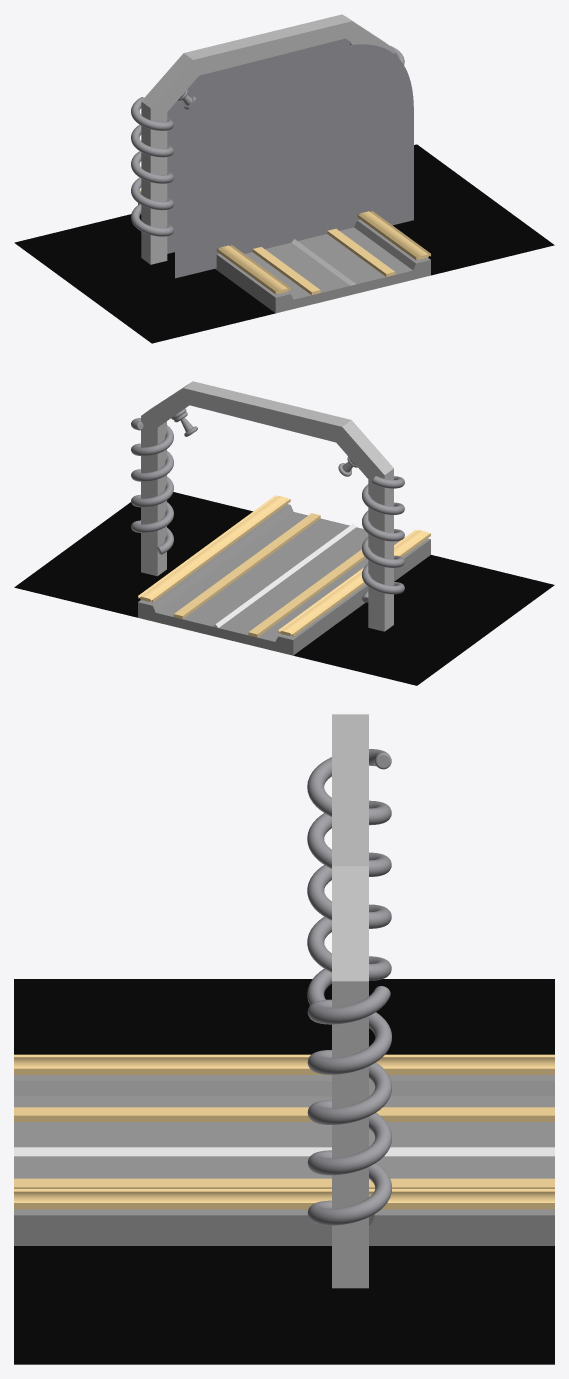
The model's file is station__soap2--.glb.
3 renders of one model, top to bottom at view 1: azimuth 30°, elevation 25°; view 2: azimuth 150°, elevation 25°; view 3: azimuth 270°, elevation 25°, orthographic. The views are drawn at different scales.
Parts seen in each view (by area): view 1: lottie_front, _basefloor, Boolean, road, lottie_back, Helix, road__top--left, road__top--right, road__rail--right, road__rail--left, road__rail--middle; view 2: _basefloor, road, Boolean, road__top--right, Helix, Helix 2, road__top--left, road__rail--right, road__rail--left, road__rail--middle; view 3: _basefloor, road, Boolean, road__top--right, road__top--left, Helix 2, road__rail--left, Helix, road__rail--right, road__rail--middle.
Boxes of the visible parts, x1=… form: lottie_front: x1=175, y1=44, x2=413, y2=278; _basefloor: x1=14, y1=144, x2=554, y2=343; Boolean: x1=141, y1=14, x2=394, y2=264; road: x1=138, y1=203, x2=430, y2=313; lottie_back: x1=167, y1=38, x2=350, y2=253; Helix: x1=131, y1=97, x2=173, y2=236; road__top--left: x1=139, y1=190, x2=290, y2=294; road__top--right: x1=357, y1=210, x2=430, y2=259; road__rail--right: x1=327, y1=228, x2=395, y2=276; road__rail--left: x1=252, y1=247, x2=320, y2=295; road__rail--middle: x1=291, y1=239, x2=355, y2=285; _basefloor: x1=14, y1=492, x2=554, y2=685; road: x1=138, y1=504, x2=430, y2=655; Boolean: x1=141, y1=381, x2=393, y2=631; road__top--right: x1=138, y1=495, x2=290, y2=602; Helix: x1=362, y1=476, x2=404, y2=602; Helix 2: x1=131, y1=418, x2=173, y2=554; road__top--left: x1=278, y1=529, x2=430, y2=636; road__rail--right: x1=173, y1=513, x2=320, y2=619; road__rail--left: x1=248, y1=549, x2=365, y2=637; road__rail--middle: x1=213, y1=523, x2=355, y2=627; _basefloor: x1=14, y1=979, x2=554, y2=1364; road: x1=14, y1=1075, x2=554, y2=1245; Boolean: x1=332, y1=714, x2=368, y2=1288; road__top--right: x1=14, y1=1189, x2=554, y2=1209; road__top--left: x1=14, y1=1054, x2=554, y2=1074; Helix 2: x1=307, y1=986, x2=391, y2=1225; road__rail--left: x1=14, y1=1107, x2=554, y2=1121; Helix: x1=307, y1=749, x2=391, y2=1005; road__rail--right: x1=14, y1=1178, x2=554, y2=1188; road__rail--middle: x1=14, y1=1147, x2=554, y2=1156.
Bounding box in the file's own units: 10.8 × 4.98 × 6.4.
